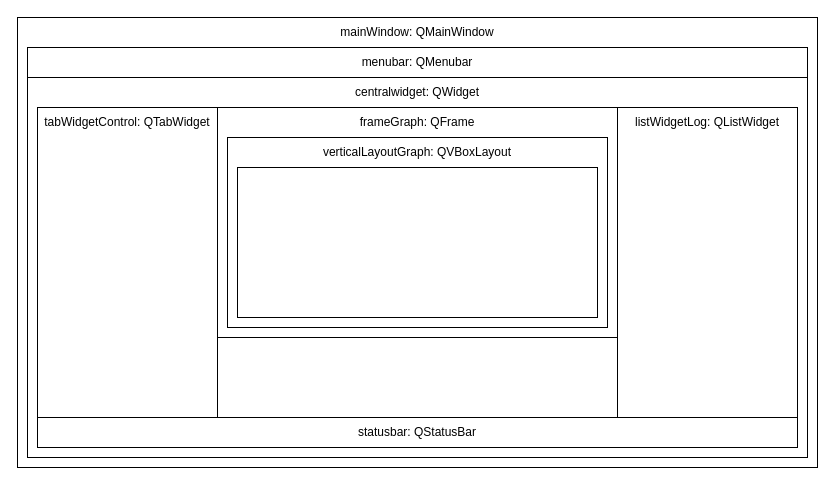
This 835x485 diagram has some shape labels left out. The shapes that lost their labels are listed below. From the top down, each one's centre as x and y in pixels, then its label:
At point (417, 242): "matplotlib".
At point (417, 377): "listWidgetState: QListWidget".
